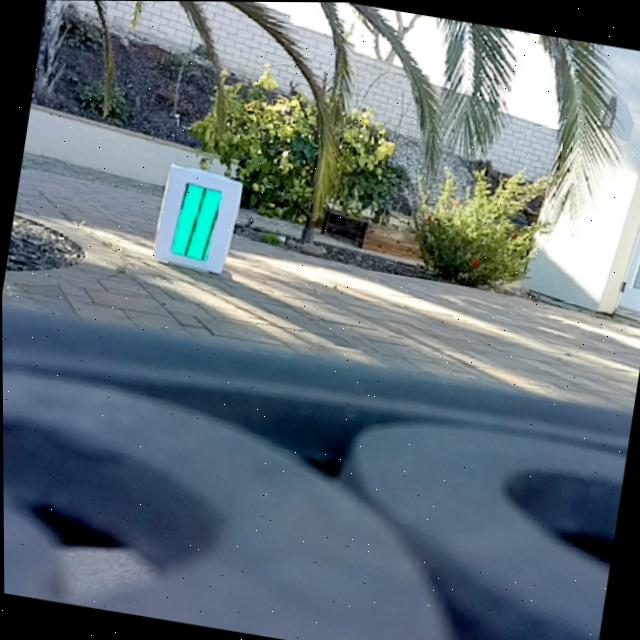led: (168, 179, 225, 265)
